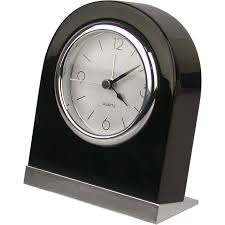alarm_clock: (21, 0, 201, 222)
